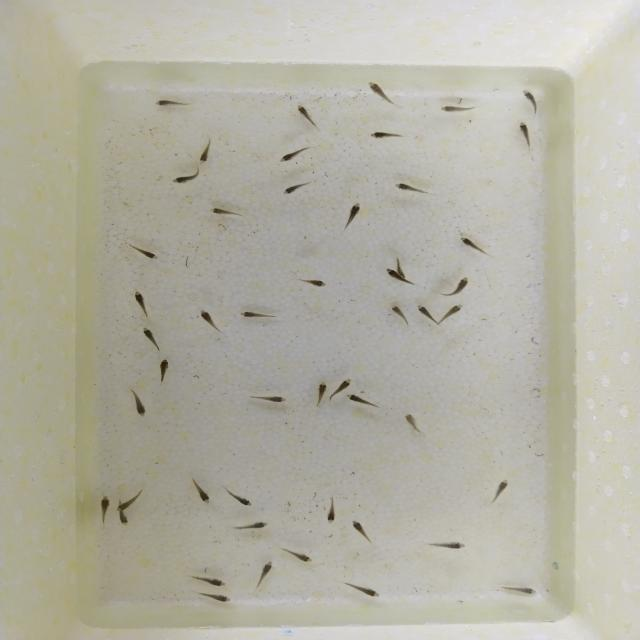fingerling: (452, 233, 496, 260), (365, 79, 401, 110), (334, 578, 384, 600), (122, 238, 164, 264), (184, 469, 212, 506), (338, 200, 364, 236), (196, 307, 227, 337), (222, 482, 256, 508), (433, 275, 475, 296), (138, 325, 168, 354), (123, 386, 149, 419), (183, 570, 230, 588), (166, 166, 208, 186), (116, 486, 146, 514), (494, 580, 539, 598), (349, 516, 375, 547), (278, 545, 318, 565), (390, 180, 434, 198), (246, 390, 290, 408), (486, 476, 514, 504), (514, 119, 537, 153), (132, 286, 155, 320), (294, 103, 320, 133), (192, 590, 237, 607), (276, 145, 314, 165), (320, 492, 343, 525), (383, 266, 417, 288), (425, 537, 469, 554), (207, 203, 248, 221), (402, 411, 428, 439), (519, 87, 542, 117), (343, 394, 386, 410), (152, 357, 174, 387), (231, 518, 275, 533), (309, 377, 330, 408), (386, 303, 412, 328), (281, 178, 317, 196), (149, 96, 195, 110), (365, 129, 411, 143), (255, 558, 275, 590), (197, 134, 217, 164), (296, 274, 333, 290), (437, 102, 482, 115), (440, 302, 466, 322), (234, 309, 280, 320), (97, 494, 111, 528), (414, 303, 436, 324), (334, 374, 355, 393), (116, 516, 134, 528)
